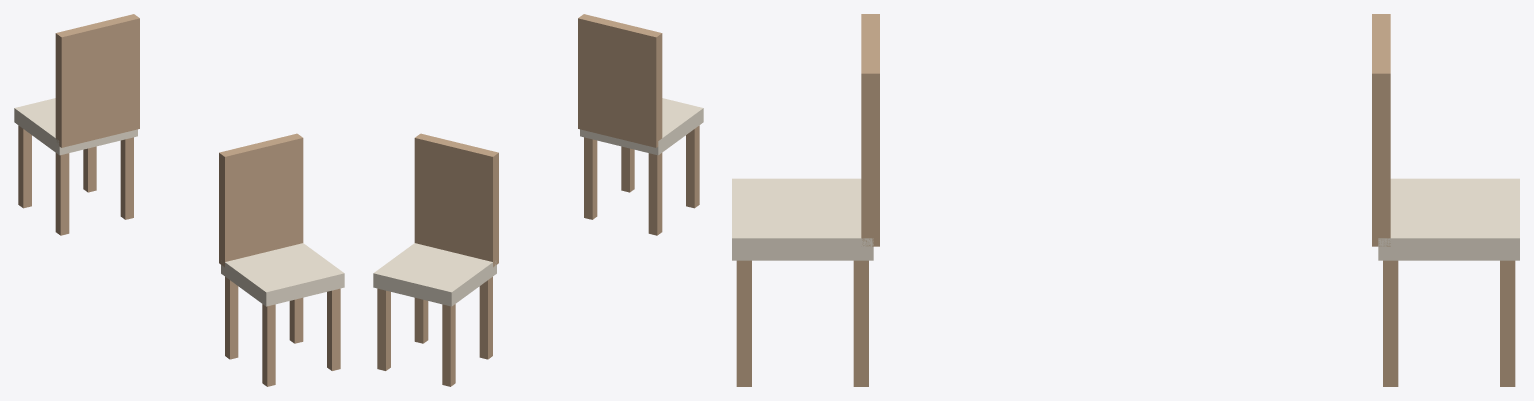
The model's file is kitchen_chair.glb.
3 renders of one model, left to right at view 1: azimuth 30°, elevation 25°; view 2: azimuth 150°, elevation 25°; view 3: azimuth 270°, elevation 25°, orthographic. The views are drawn at different scales.
Parts seen in each view (by area): view 1: Chair_0, Chair_1; view 2: Chair_1, Chair_0; view 3: Chair_0, Chair_1.
Part boxes in pixels (<box>): Chair_0: <box>219,133,344,386</box>; Chair_1: <box>14,14,139,235</box>; Chair_1: <box>373,133,498,386</box>; Chair_0: <box>578,14,703,235</box>; Chair_0: <box>732,14,879,386</box>; Chair_1: <box>1372,14,1519,386</box>.
Bounding box in the file's own units: 0.46 × 1.13 × 2.56.
